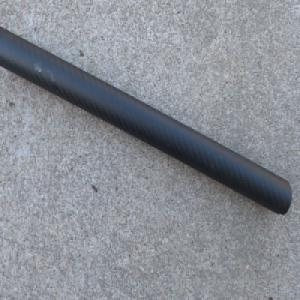LuggagePart: (0, 22, 293, 216)
